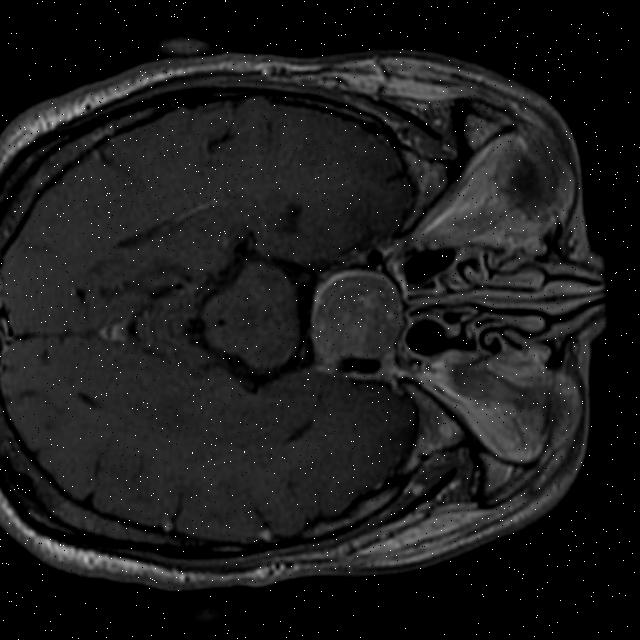Pituitary: (304, 263, 408, 366)
